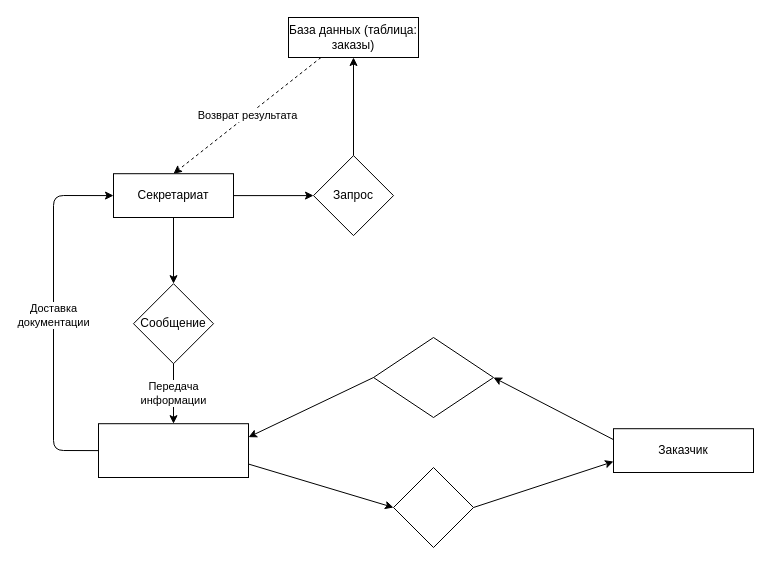
Some shapes in this 771 by 565 pixel diagram are drawn without their labels. The shapes that lost their labels are listed below. From the top down, each one's centre as x and y in pixels, then its label:
At (x=433, y=377): "Оборот документации".
At (x=173, y=450): "Транспортный персонал (водители)".
At (x=433, y=507): "Движение".
